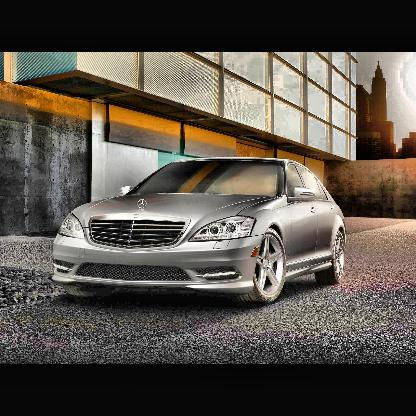Mercedes-Benz S-Class Sedan 2012: (52, 157, 346, 301)
